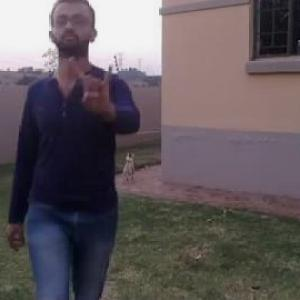takeoff-hand: (66, 50, 121, 119)
